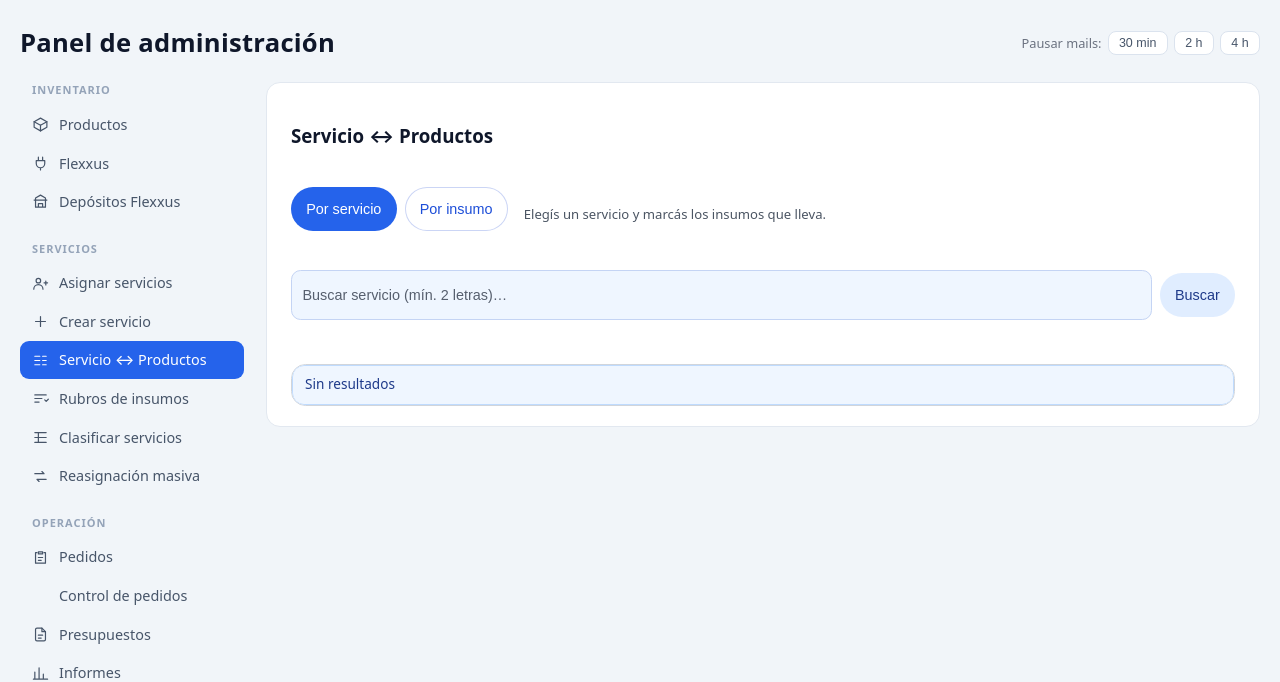
Test case: Regla del servicio › un servicio sin definir lo dice y no cambia nada solo
Expected: the heading "Servicio ↔ Productos" is shown, [291,123,493,148]
Step 1. Type "hospital" into the field labelled "Buscar servicio" → (721, 296), box [291,270,1152,320]
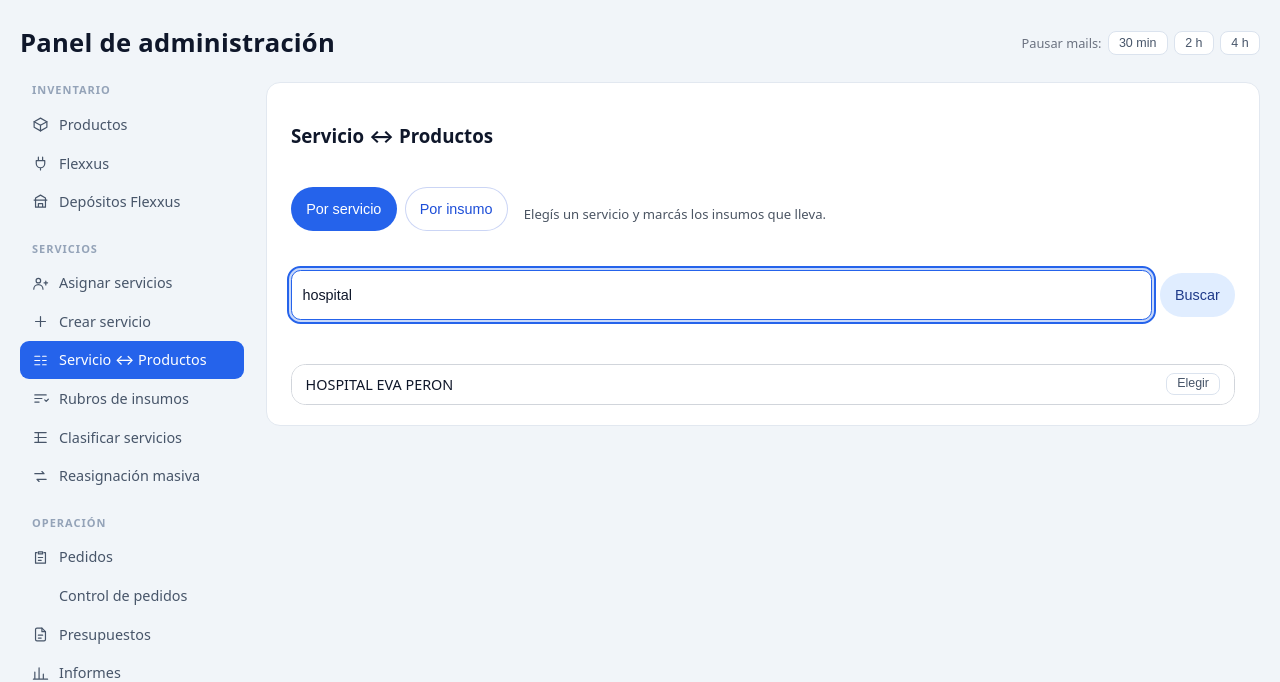
Step 2. Click the button "Elegir" → (1193, 384), box [1166,374,1220,395]
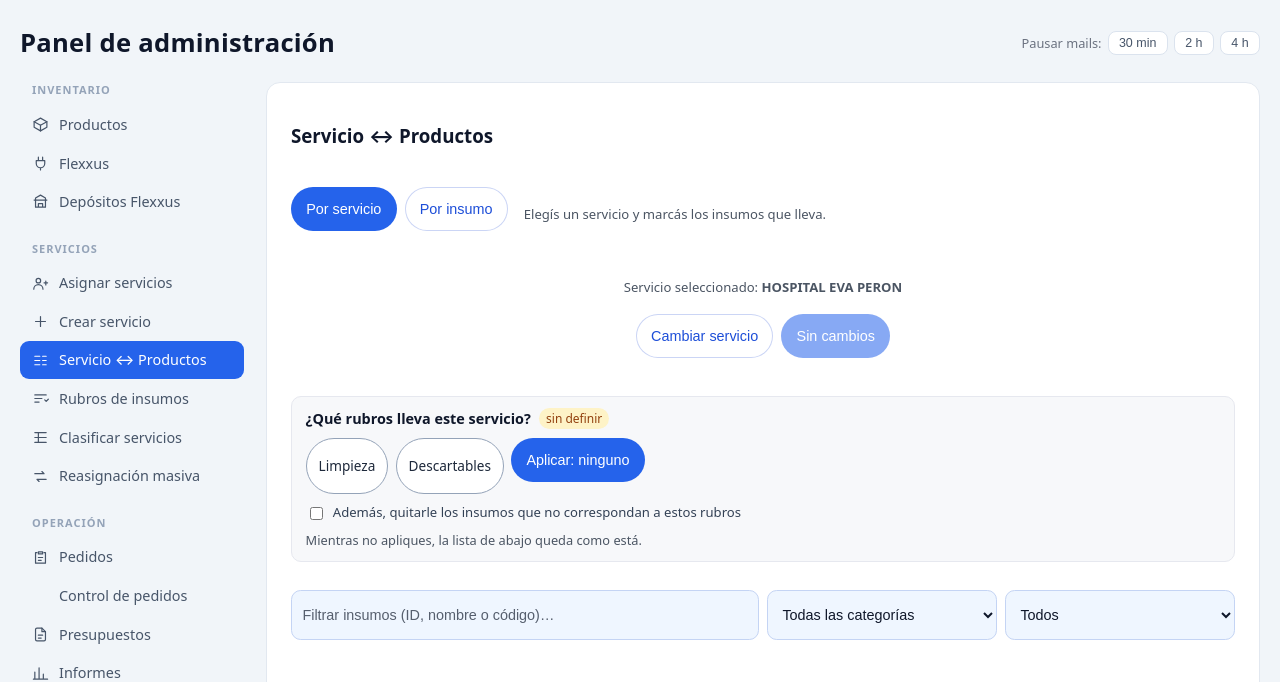
Expected: the text "¿Qué rubros lleva este servicio?" is shown, [306,409,531,428]
Expected: the text "sin definir" is shown, [539,408,610,429]
Expected: the text "Mientras no apliques, la lista de abajo queda como está." is shown, [306,531,642,549]
